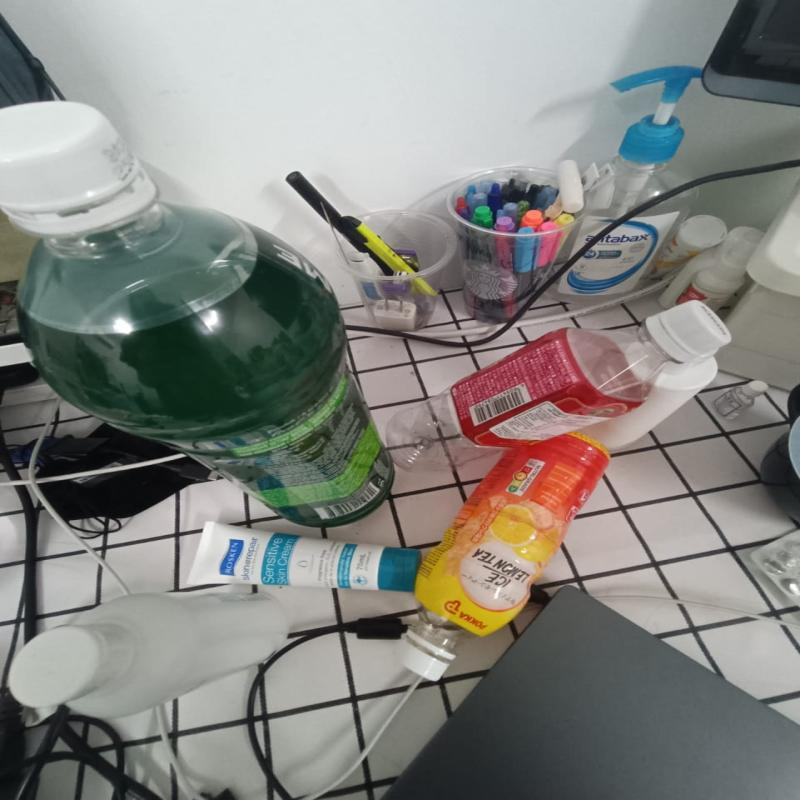botella: (0, 100, 400, 530), (385, 298, 732, 480), (381, 436, 614, 684)
